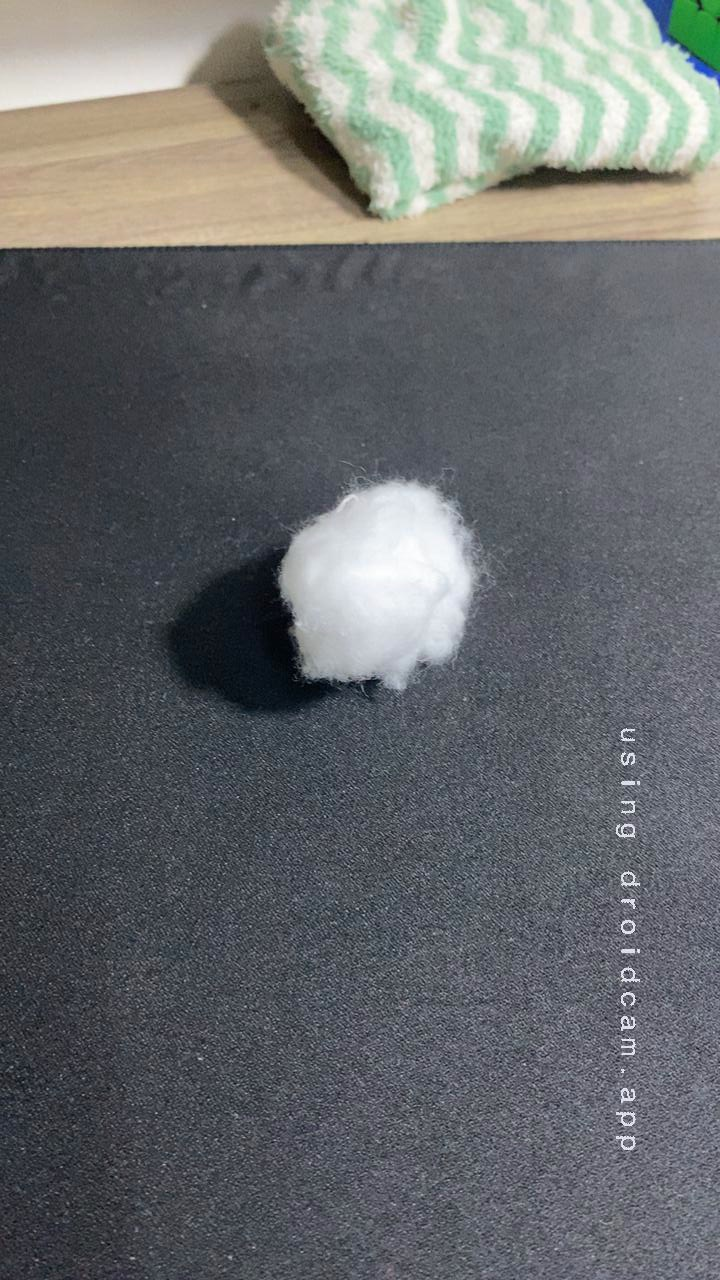cotton: (250, 458, 497, 703)
